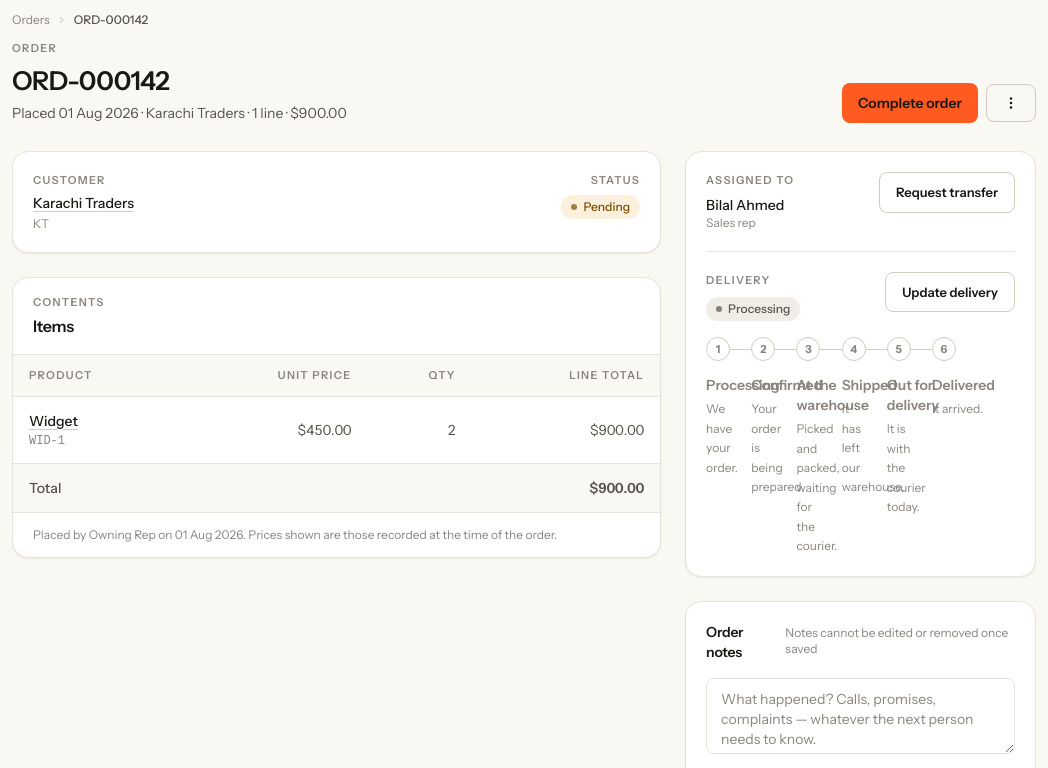
Test: a rep asking for a transfer › cannot be sent without naming somebody
This screenshot has width=1048, height=768.
Click the button "Request transfer" at (947, 192), box [879,172,1015,213]
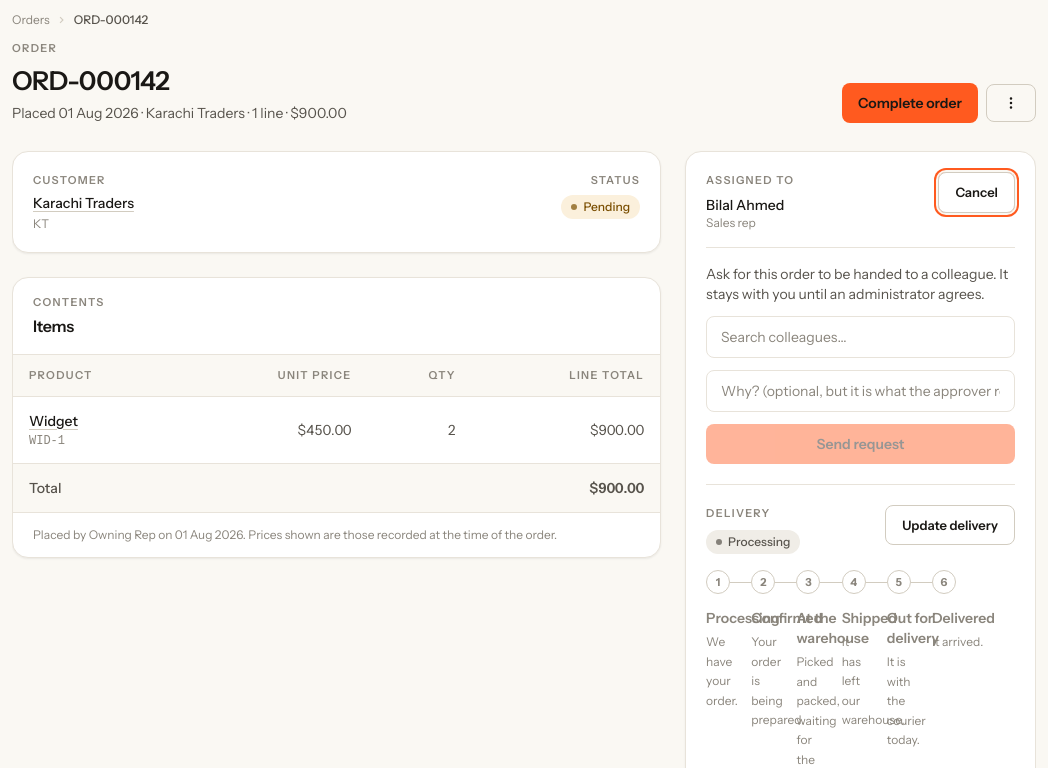
Expected: the button "Send request" is disabled, [706,424,1015,464]
